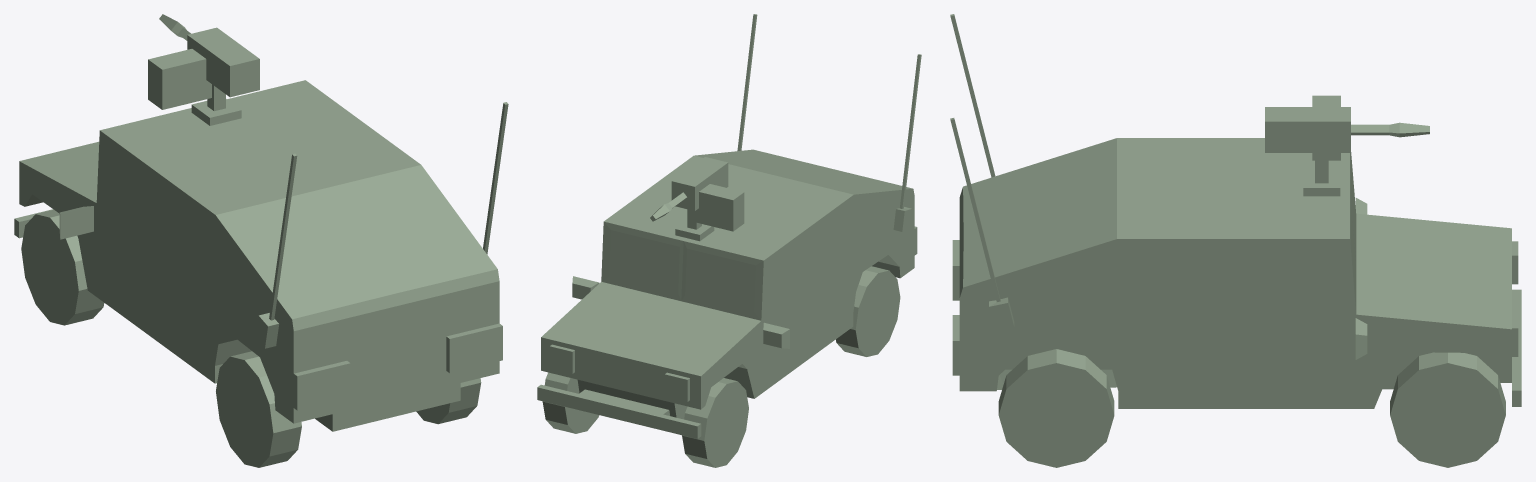
Rendered from troop_car.fbx.
The picture shows the model from 3 angles, left to right: view 1: azimuth 30°, elevation 25°; view 2: azimuth 150°, elevation 25°; view 3: azimuth 270°, elevation 25°; orthographic projection. The views are drawn at different scales.
Visible parts, largest first — view 1: troop_car, gun, wheel_rl, wheel_fl, wheel_rr; view 2: troop_car, gun, wheel_fl, wheel_rl, wheel_fr; view 3: troop_car, wheel_rr, wheel_fr, gun.
Boxes of the visible parts, left/top/right/bottom form: troop_car: left=14, top=80, right=508, bottom=431; gun: left=148, top=14, right=259, bottom=125; wheel_rl: left=216, top=351, right=301, bottom=467; wheel_fl: left=21, top=209, right=104, bottom=325; wheel_rr: left=416, top=378, right=481, bottom=424; troop_car: left=537, top=14, right=921, bottom=438; gun: left=650, top=157, right=744, bottom=241; wheel_fl: left=682, top=378, right=748, bottom=467; wheel_rl: left=836, top=266, right=900, bottom=356; wheel_fr: left=542, top=372, right=599, bottom=433; troop_car: left=950, top=14, right=1521, bottom=408; wheel_rr: left=998, top=349, right=1114, bottom=467; wheel_fr: left=1390, top=352, right=1505, bottom=467; gun: left=1265, top=95, right=1429, bottom=196.
Size of the model in its own units: 3.98 by 4.74 by 7.01.
